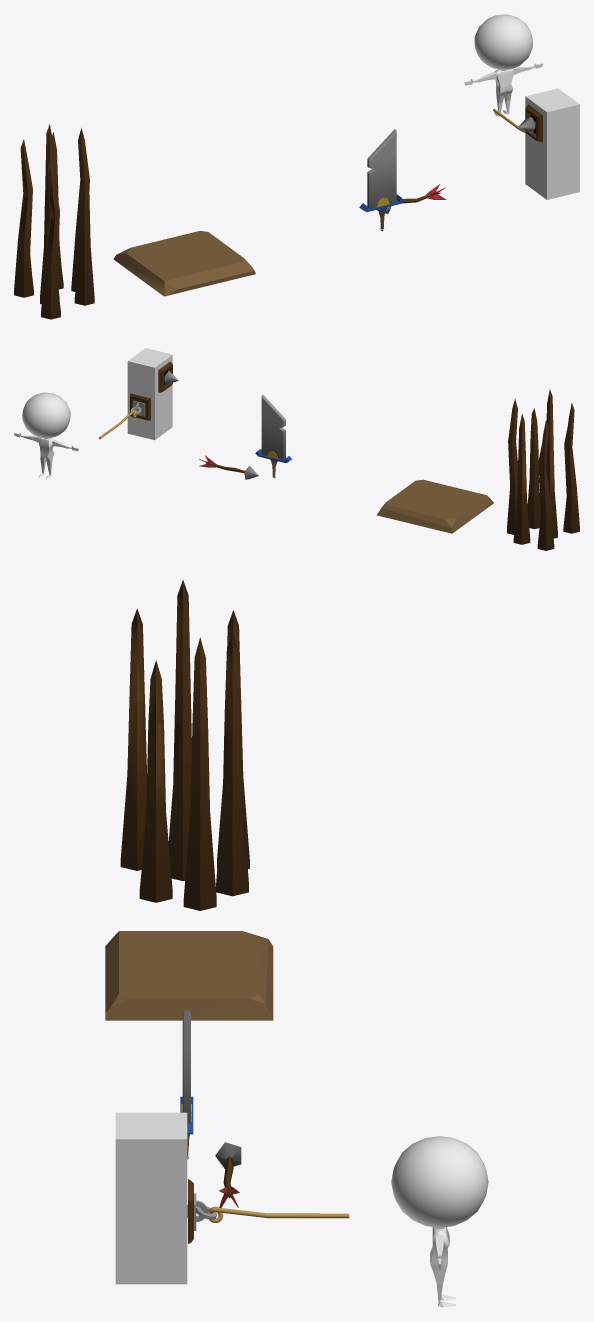
The model's file is attach_corde.FBX.
3 views of the same model, one above another, from view 1: azimuth 30°, elevation 25°; view 2: azimuth 150°, elevation 25°; view 3: azimuth 270°, elevation 25° (orthographic). The views are drawn at different scales.
Parts seen in each view (by area): view 1: pointe, plaque_piège, Box001, Sphere002, Epee, object 12, lance_fleche; view 2: pointe, plaque_piège, Box001, Sphere002, Epee, object 12, attach_corde, fleche, lance_fleche; view 3: pointe, plaque_piège, Box001, Sphere002, Epee, object 12, fleche.
Part boxes in pixels (x1,y1,x2,y2): pointe: (14,124,94,319); plaque_piège: (113,231,255,296); Box001: (525,88,579,199); Sphere002: (474,14,532,69); Epee: (359,129,404,231); object 12: (464,63,542,116); lance_fleche: (525,104,542,142); pointe: (507,389,579,550); plaque_piège: (376,479,493,533); Box001: (127,348,172,440); Sphere002: (22,392,70,438); Epee: (255,394,292,478); object 12: (14,433,78,479); attach_corde: (130,393,150,420); fleche: (199,455,258,479); lance_fleche: (158,362,172,392); pointe: (120,580,249,910); plaque_piège: (105,931,273,1020); Box001: (115,1112,187,1284); Sphere002: (391,1136,488,1227); Epee: (180,1010,193,1159); object 12: (430,1227,455,1307); fleche: (215,1142,241,1207).
Size of the model in its own units: 707 by 216 by 240.
